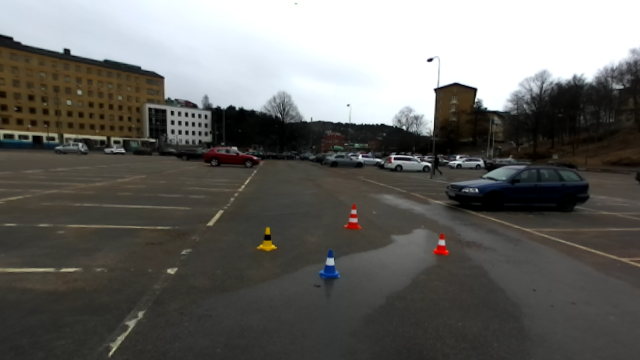blue: (317, 248, 341, 280)
orange: (432, 230, 449, 257)
orange2: (342, 201, 362, 231)
yellow: (255, 225, 277, 251)
